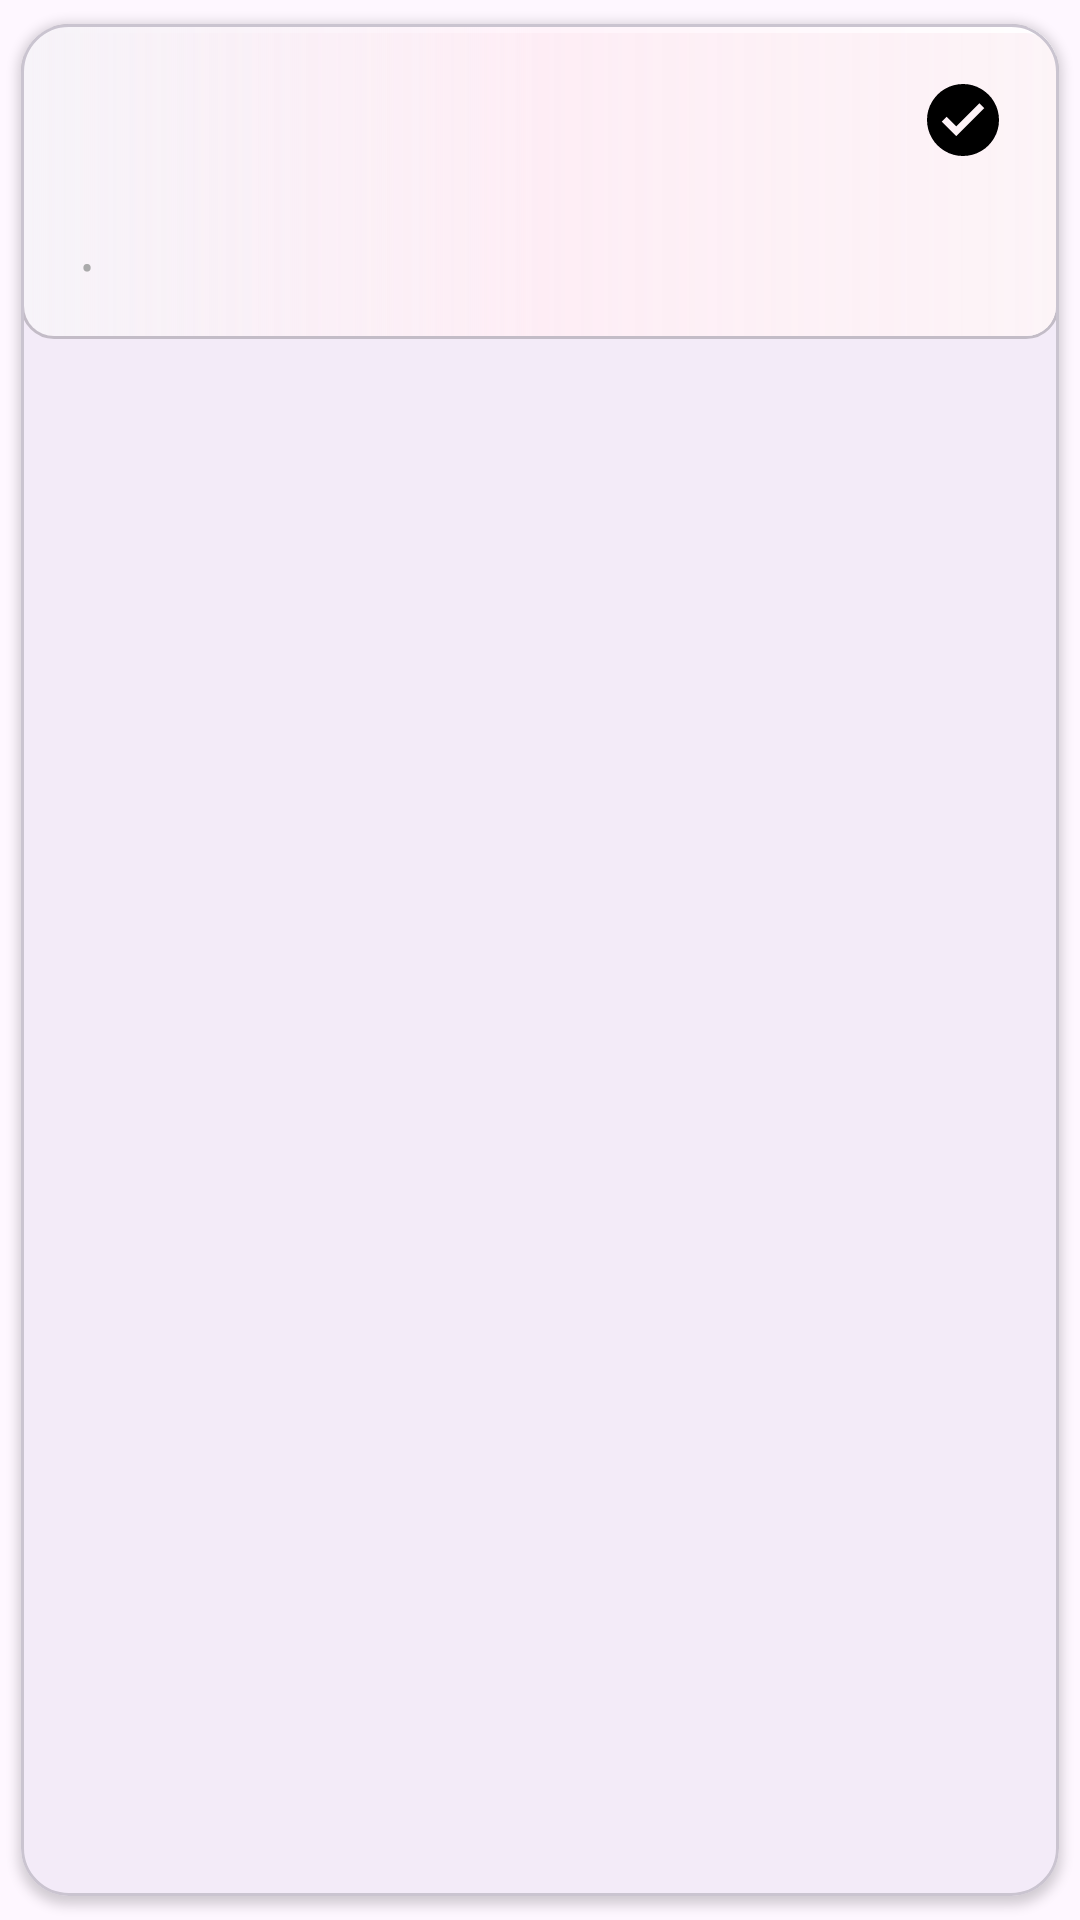

Locate icon controls on the screen. Image size 1080 x 1920, boxes as (x1, y1, x2, y2).
Mark as read: (927, 84, 999, 156)
